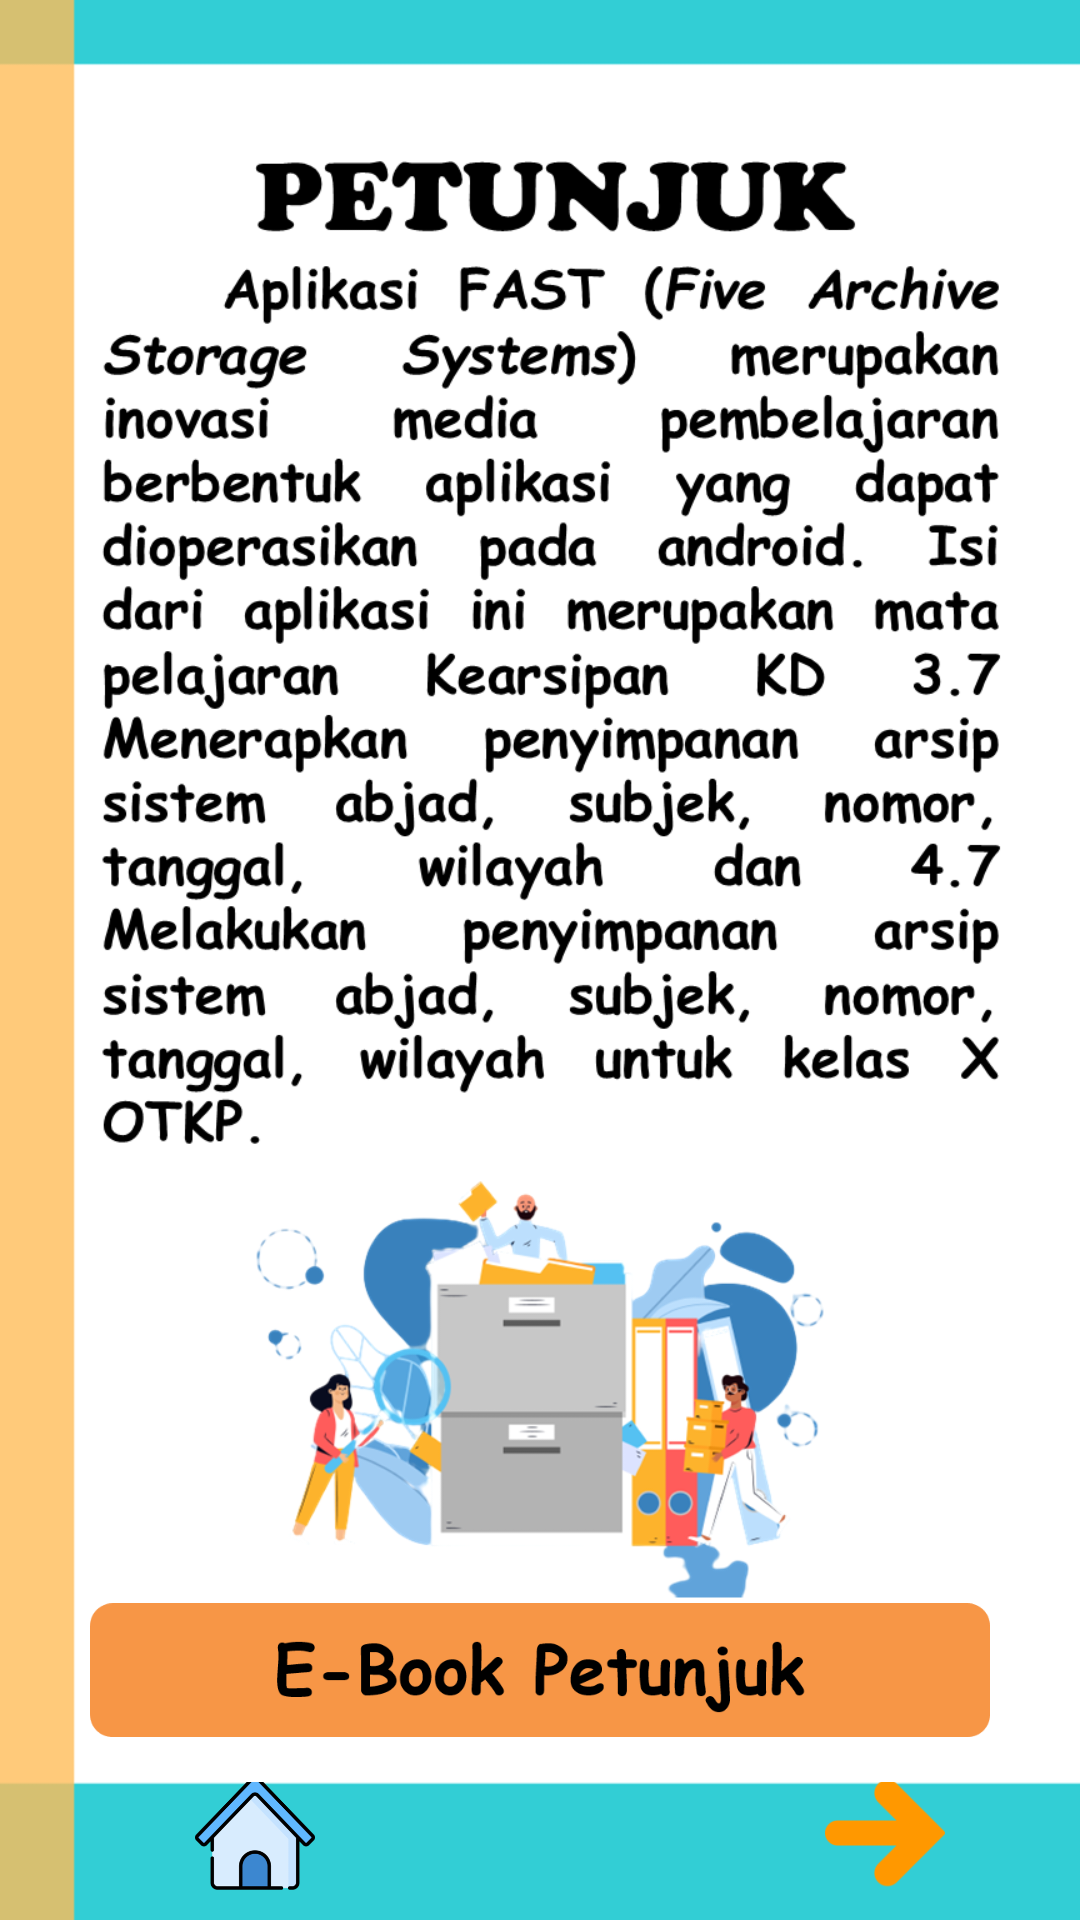

Icons on this 1080 × 1920 Android screen, each with its box as region(x1, y1, x2, y2):
home: region(180, 1782, 330, 1890)
next: region(810, 1782, 960, 1887)
